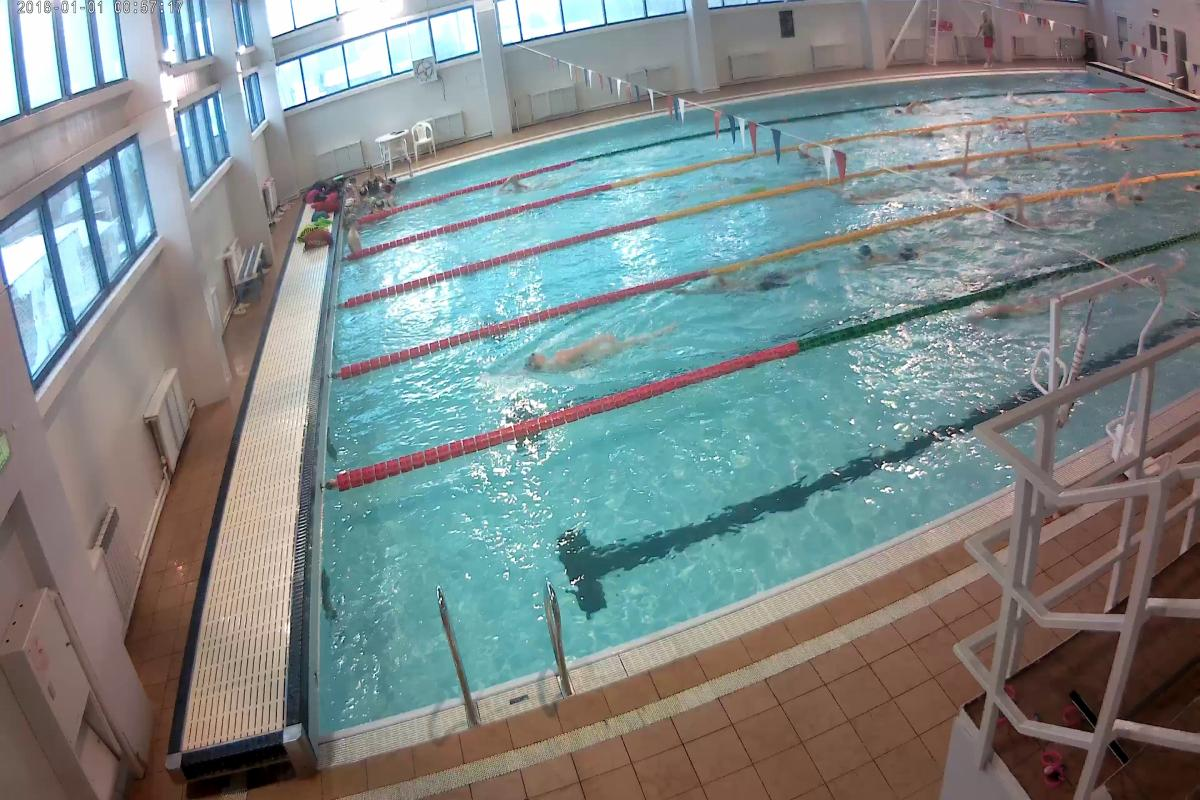swimmer: (519, 323, 655, 379), (674, 262, 804, 311), (843, 232, 950, 275), (830, 182, 906, 209), (1002, 209, 1067, 231), (1090, 188, 1148, 210), (948, 157, 994, 181), (891, 98, 932, 123), (789, 138, 818, 168)
